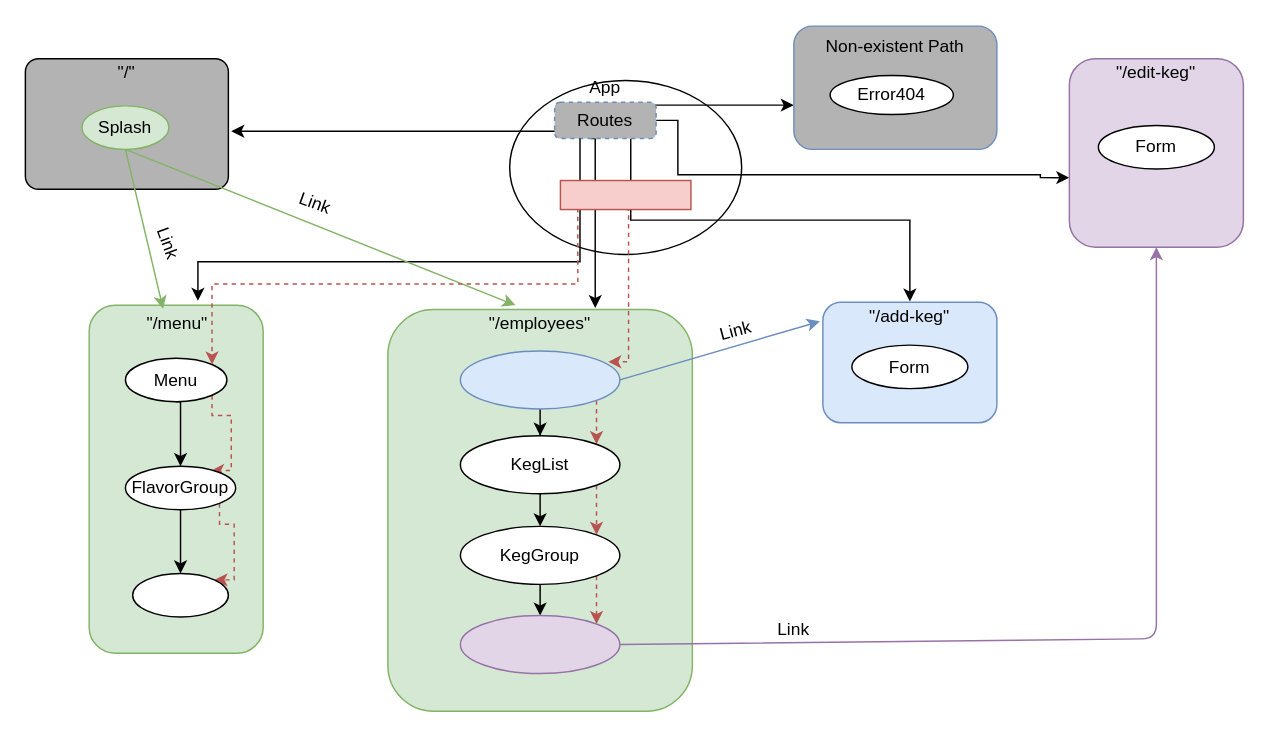
This 1269x737 diagram has some shape labels left out. Each missing label, with the centre of its shape:
EmployeeView: point (539, 379)
Keg: point (539, 644)
Kombucha: point (179, 594)
masterKegList: point (625, 194)
